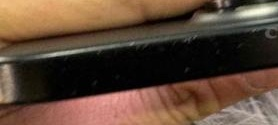scratch: (75, 25, 230, 77), (237, 20, 268, 42)
